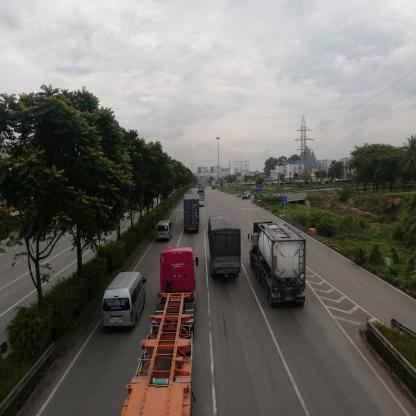car: (104, 274, 146, 327), (157, 221, 173, 240), (199, 200, 205, 207)
container: (156, 248, 192, 416), (186, 195, 201, 231)
truck: (251, 220, 305, 310), (209, 218, 242, 279), (244, 191, 252, 201)
